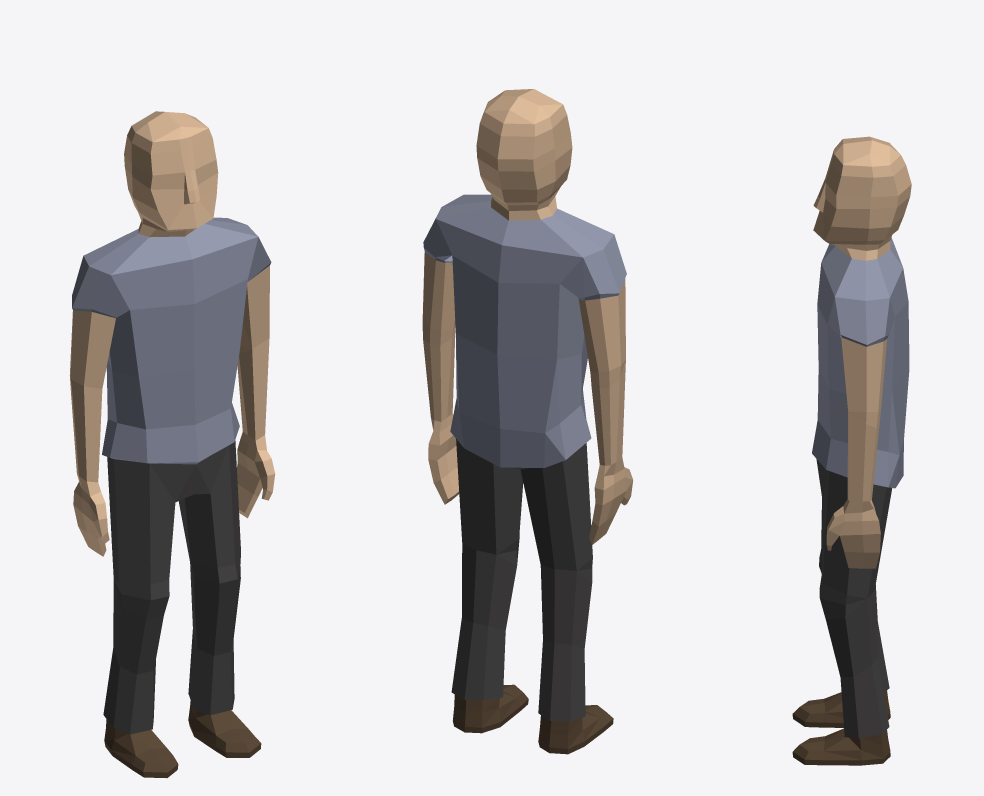
File: male-character-1161.glb
The picture shows the model from 3 angles, left to right: view 1: azimuth 30°, elevation 25°; view 2: azimuth 150°, elevation 25°; view 3: azimuth 270°, elevation 25°; orthographic projection. The views are drawn at different scales.
Visible parts, largest first — view 1: Male_Standing; view 2: Male_Standing; view 3: Male_Standing.
Part boxes in pixels (x1=…): Male_Standing: x1=69, y1=111, x2=275, y2=778; Male_Standing: x1=422, y1=89, x2=633, y2=754; Male_Standing: x1=792, y1=136, x2=911, y2=765.
Bounding box in the file's own units: 1.98 × 4.5 × 1.46.
